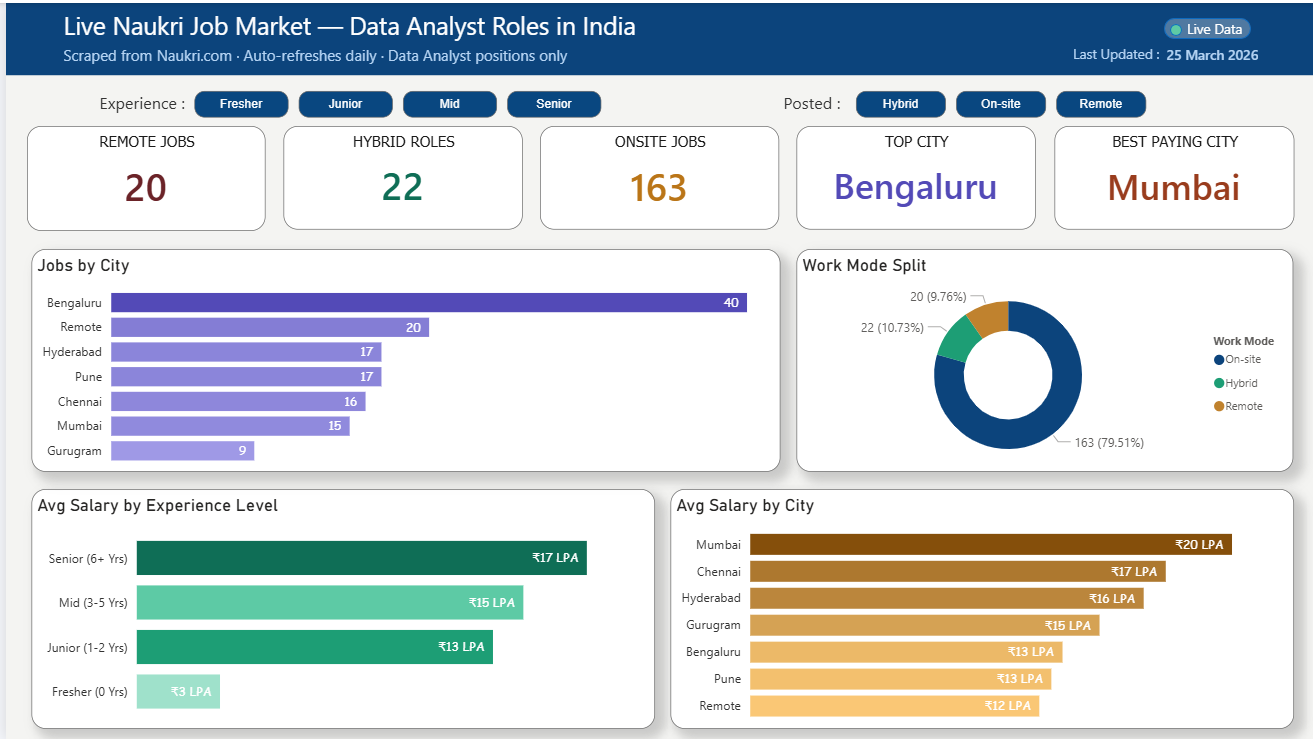

The dashboard page shown, as its layout file describes it:
{"tool":"powerbi","page":{"name":"Location & Salary intelligence","canvas":[1280,720],"ordinal":1},"visuals":[{"type":"textbox","box":[0,0,1280,70.4],"z":0},{"type":"textbox","box":[51.4,0,585.5,45.5],"z":1000},{"type":"textbox","box":[51.4,35.2,510.7,35.2],"z":2000},{"type":"shape","box":[1132.9,14.7,85.1,20.5],"z":3000},{"type":"textbox","box":[1150.5,10.3,67.5,33.8],"z":4000},{"type":"shape","box":[1138.7,20.5,11.7,11.7],"z":5000},{"type":"cardVisual","title":"Last Updated","fields":{"Data":["All Measures.Last Updated"]},"box":[1118.2,35.2,133.5,30.8],"z":6000},{"type":"textbox","box":[1038.9,35.2,99.8,35.2],"z":7000},{"type":"ChicletSlicer1448559807354","fields":{"Category":["naukri_clean.Exp Level Short"]},"box":[179,80.7,425.6,39.6],"z":8000},{"type":"ChicletSlicer1448559807354","fields":{"Category":["naukri_clean.Work Mode"]},"box":[826.8,80.3,316.5,39.4],"z":9000},{"type":"textbox","box":[86.6,80.7,99.8,35.2],"z":10000},{"type":"textbox","box":[755.7,80.7,70.4,35.2],"z":11000},{"type":"cardVisual","title":"REMOTE JOBS","fields":{"Data":["All Measures.Remote Total"]},"box":[20,120.3,233.3,102.7],"z":12000},{"type":"cardVisual","title":"HYBRID ROLES","fields":{"Data":["All Measures.Hybrid Total"]},"box":[270.8,120.3,234,101.4],"z":13000},{"type":"cardVisual","title":"ONSITE JOBS","fields":{"Data":["All Measures.On-site Total"]},"box":[522.3,120.3,234,101.4],"z":14000},{"type":"cardVisual","title":"TOP CITY","fields":{"Data":["All Measures.Top City Name"]},"box":[773.7,120.3,234,101.4],"z":15000},{"type":"cardVisual","title":"BEST PAYING CITY","fields":{"Data":["All Measures.Best Paying City Name"]},"box":[1025.2,120.3,234.8,101.4],"z":16000},{"type":"clusteredBarChart","title":"Avg Salary by Experience Level","fields":{"Category":["naukri_clean.Exp_Level"],"Y":["All Measures.Avg Salary"]},"box":[24.2,475.5,610.2,234.7],"z":17000},{"type":"clusteredBarChart","title":"Jobs by City","fields":{"Y":["All Measures.Total Jobs"],"Category":["naukri_clean.Location_Clean"]},"box":[24.2,240.8,732.9,218],"z":18000},{"type":"donutChart","title":"Work Mode Split","fields":{"Category":["naukri_clean.Work Mode"],"Y":["All Measures.Total Jobs"]},"box":[773.8,240.8,486.1,218],"z":19000},{"type":"clusteredBarChart","title":"Avg Salary by City","fields":{"Category":["naukri_clean.Location_Clean"],"Y":["All Measures.Avg Salary"]},"box":[649.6,475.5,610.2,234.7],"z":20000}]}

Visuals, with their boxes in screenshot pixels (x1, y1, x2, y2), scaled from the page's 1280x720 canvas onto the 1313x739 screenshot:
textbox: box(0, 0, 1312, 72)
textbox: box(53, 0, 653, 47)
textbox: box(53, 36, 577, 72)
shape: box(1162, 15, 1249, 36)
textbox: box(1180, 11, 1249, 45)
shape: box(1168, 21, 1180, 33)
"Last Updated" cardVisual: box(1147, 36, 1284, 68)
textbox: box(1066, 36, 1168, 72)
ChicletSlicer1448559807354 - naukri_clean.Exp Level Short: box(184, 83, 620, 123)
ChicletSlicer1448559807354 - naukri_clean.Work Mode: box(848, 82, 1173, 123)
textbox: box(89, 83, 191, 119)
textbox: box(775, 83, 847, 119)
"REMOTE JOBS" cardVisual: box(21, 123, 260, 229)
"HYBRID ROLES" cardVisual: box(278, 123, 518, 228)
"ONSITE JOBS" cardVisual: box(536, 123, 776, 228)
"TOP CITY" cardVisual: box(794, 123, 1034, 228)
"BEST PAYING CITY" cardVisual: box(1052, 123, 1292, 228)
"Avg Salary by Experience Level" clusteredBarChart: box(25, 488, 651, 729)
"Jobs by City" clusteredBarChart: box(25, 247, 777, 471)
"Work Mode Split" donutChart: box(794, 247, 1292, 471)
"Avg Salary by City" clusteredBarChart: box(666, 488, 1292, 729)
